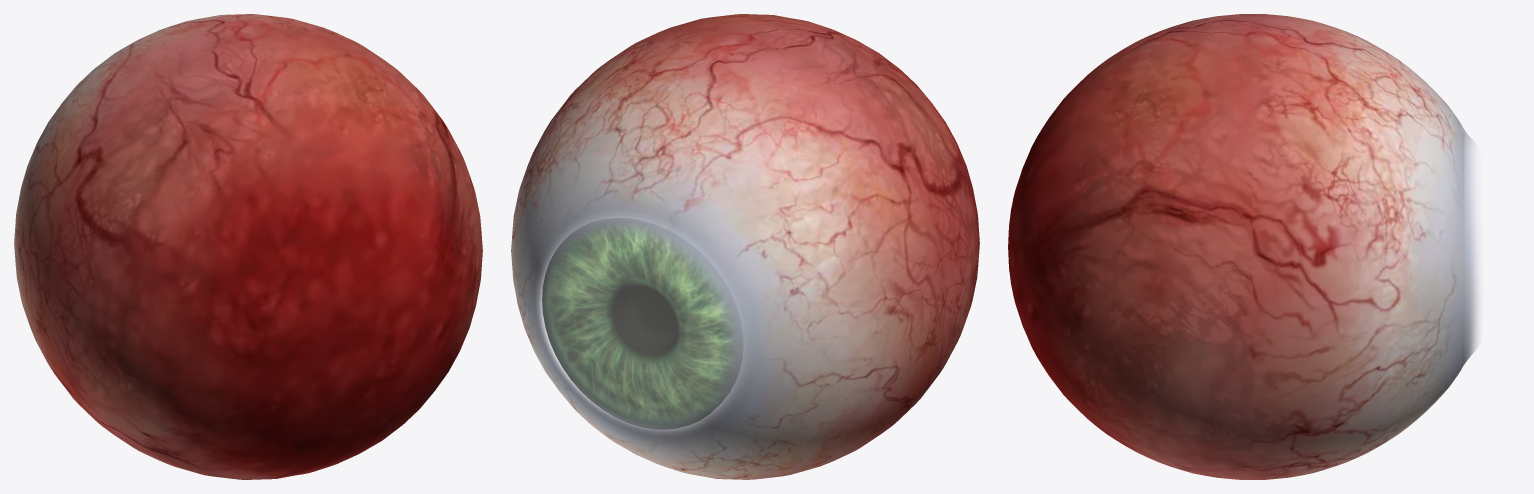
The model's file is eyeball-transformed.glb.
3 views of the same model, side by side, from view 1: azimuth 30°, elevation 25°; view 2: azimuth 150°, elevation 25°; view 3: azimuth 270°, elevation 25° (orthographic).
Visible parts, largest first — view 1: Sclera; view 2: Sclera, Iris; view 3: Sclera.
Boxes of the visible parts, x1,y1,x2,y2 form: Sclera: [14, 14, 482, 479]; Sclera: [511, 14, 979, 479]; Iris: [542, 218, 741, 429]; Sclera: [1008, 14, 1479, 479].
Size of the model in its own units: 229 by 229 by 251.
Materials: 2 (2 with a texture image).
